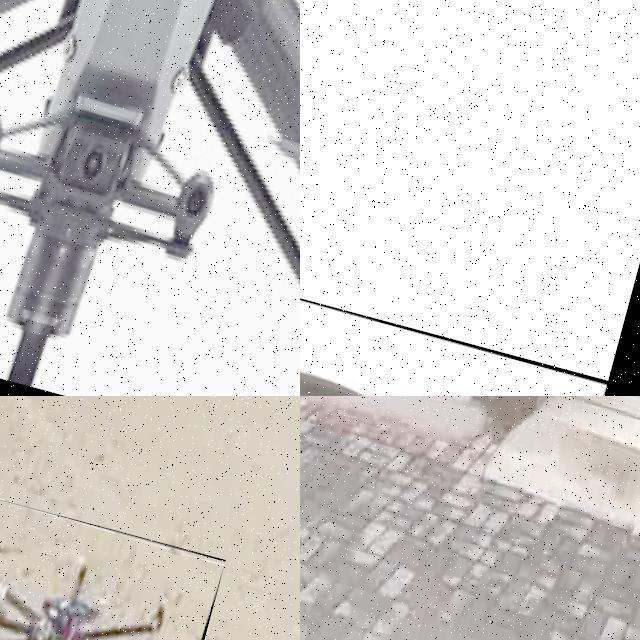drone: (0, 0, 300, 396), (300, 215, 607, 396), (0, 485, 225, 640)
